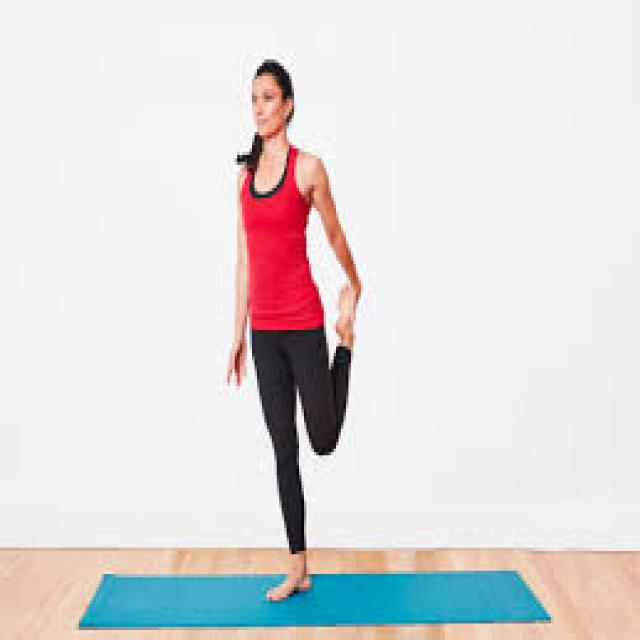adult: (202, 43, 390, 623)
